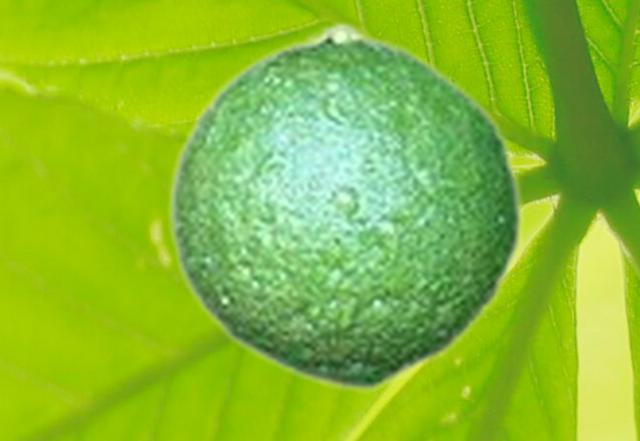dalandan: (164, 20, 524, 392)
